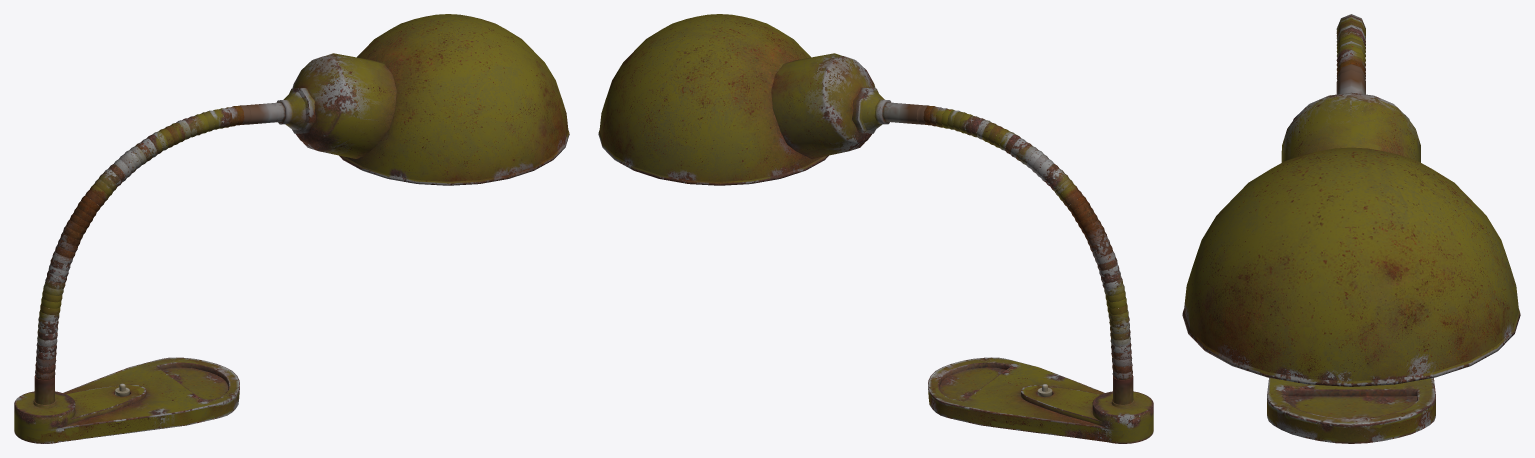
The model's file is desklamp.glb.
The picture shows the model from 3 angles, left to right: view 1: azimuth 30°, elevation 25°; view 2: azimuth 150°, elevation 25°; view 3: azimuth 270°, elevation 25°; orthographic projection. The views are drawn at different scales.
Parts seen in each view (by area): view 1: Cylinder.001; view 2: Cylinder.001; view 3: Cylinder.001.
Boxes of the visible parts, left/top/right/bottom form: Cylinder.001: left=14, top=14, right=569, bottom=443; Cylinder.001: left=598, top=14, right=1153, bottom=443; Cylinder.001: left=1182, top=14, right=1520, bottom=443.
Size of the model in its own units: 2020 by 1111 by 794.
Materials: 3 (2 with a texture image).
